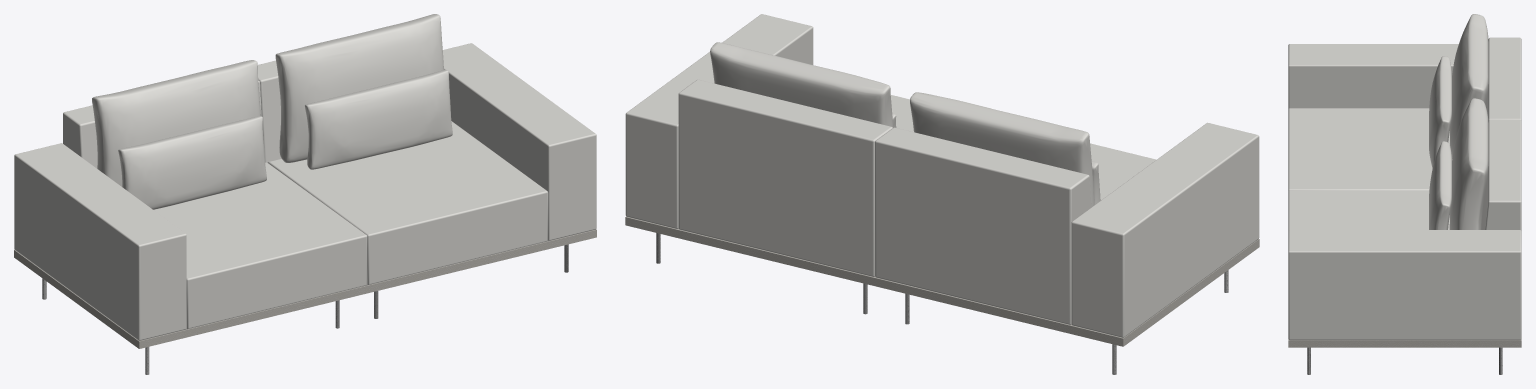
The model's file is double_arm_2.glb.
The picture shows the model from 3 angles, left to right: view 1: azimuth 30°, elevation 25°; view 2: azimuth 150°, elevation 25°; view 3: azimuth 270°, elevation 25°; orthographic projection. The views are drawn at different scales.
Parts seen in each view (by area): view 1: instance_0, instance_0.029, instance_0.031, instance_0.028, instance_0.030, instance_0.003; view 2: instance_0, instance_0.031, instance_0.029, instance_0.003; view 3: instance_0, instance_0.029, instance_0.031, instance_0.030, instance_0.003, instance_0.028.
Part boxes in pixels (bbox=[...]): instance_0: bbox=[14, 43, 596, 340]; instance_0.029: bbox=[275, 14, 443, 162]; instance_0.031: bbox=[92, 60, 260, 186]; instance_0.028: bbox=[305, 70, 452, 169]; instance_0.030: bbox=[118, 116, 266, 209]; instance_0.003: bbox=[14, 229, 596, 348]; instance_0: bbox=[625, 14, 1259, 337]; instance_0.031: bbox=[910, 92, 1094, 207]; instance_0.029: bbox=[710, 42, 893, 127]; instance_0.003: bbox=[625, 216, 1259, 346]; instance_0: bbox=[1288, 37, 1521, 340]; instance_0.029: bbox=[1449, 98, 1488, 229]; instance_0.031: bbox=[1450, 14, 1488, 158]; instance_0.030: bbox=[1429, 56, 1451, 168]; instance_0.003: bbox=[1288, 339, 1521, 347]; instance_0.028: bbox=[1429, 141, 1451, 229].
Size of the model in its own units: 1.9 by 0.799 by 0.9.
Materials: 3 (2 with a texture image).
